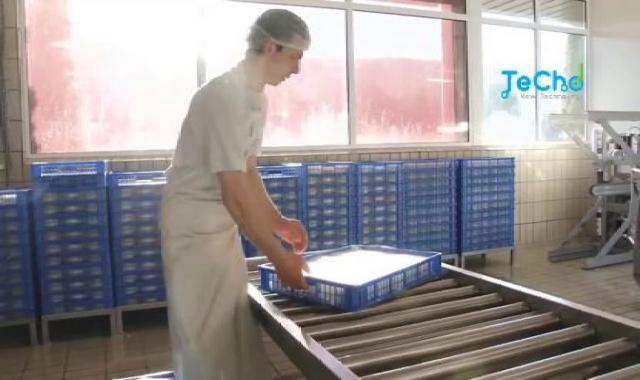hairnet: (239, 5, 315, 62)
